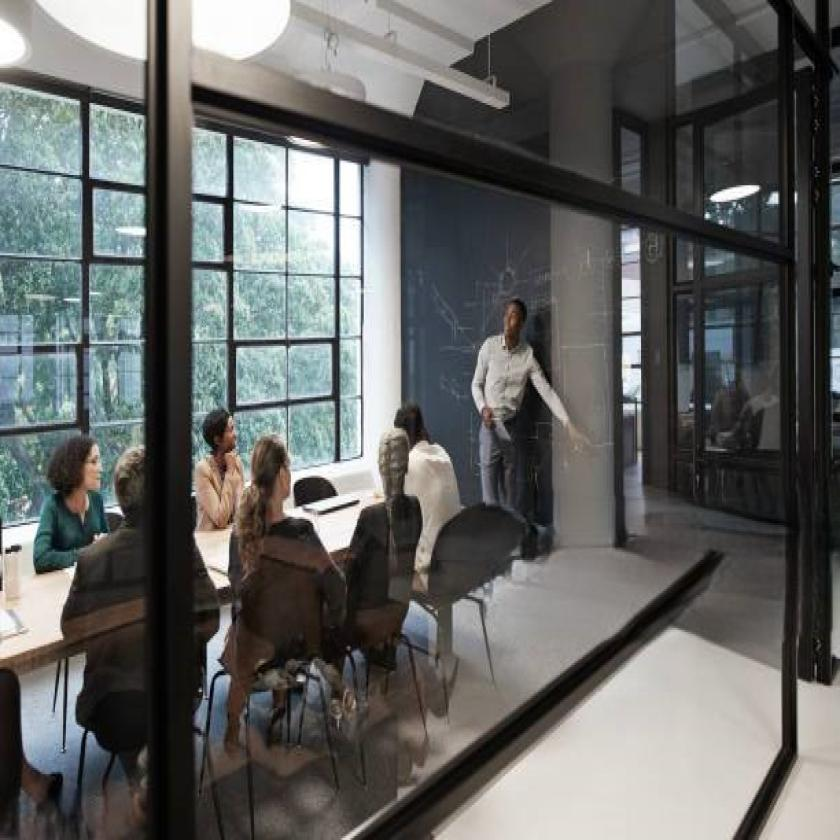Sin_casco: (49, 415, 108, 502), (495, 292, 535, 360), (199, 402, 240, 459)
